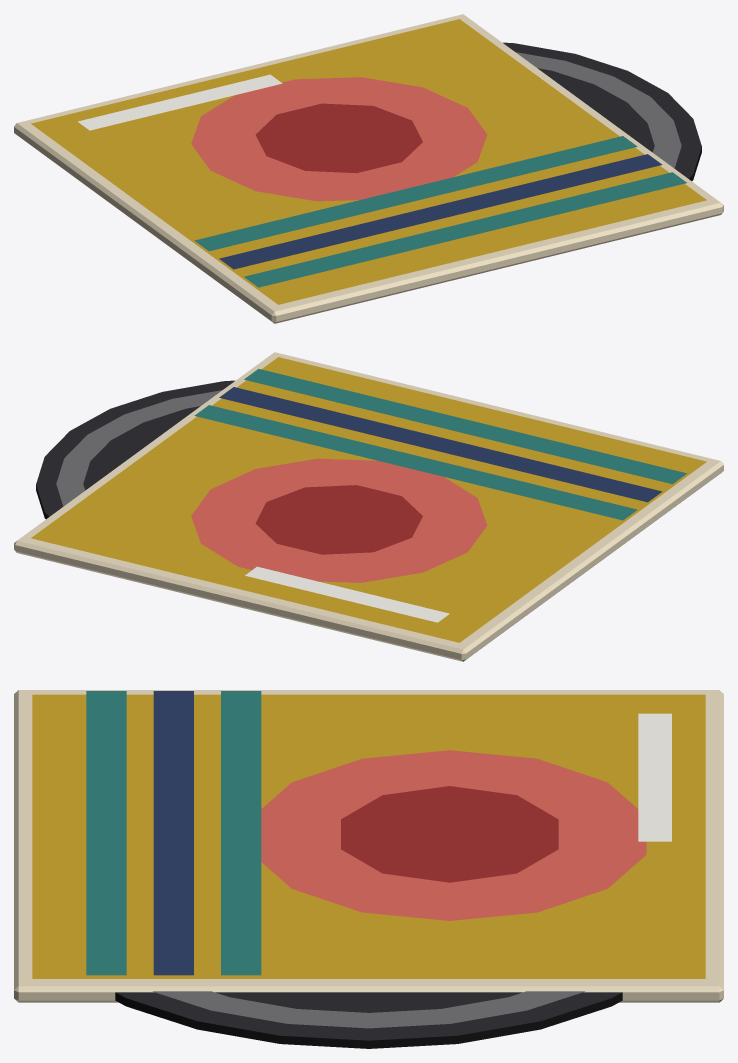
File: record.glb
3 views of the same model, one above another, from view 1: azimuth 30°, elevation 25°; view 2: azimuth 150°, elevation 25°; view 3: azimuth 270°, elevation 25° (orthographic). The views are drawn at different scales.
Parts seen in each view (by area): view 1: record; view 2: record; view 3: record.
Boxes of the visible parts, left/top/right/bottom form: record: left=14, top=14, right=723, bottom=323; record: left=14, top=352, right=723, bottom=661; record: left=14, top=690, right=723, bottom=1048.
Bounding box in the file's own units: 0.36 × 0.0104 × 0.31.
1 material, 1 textured.
